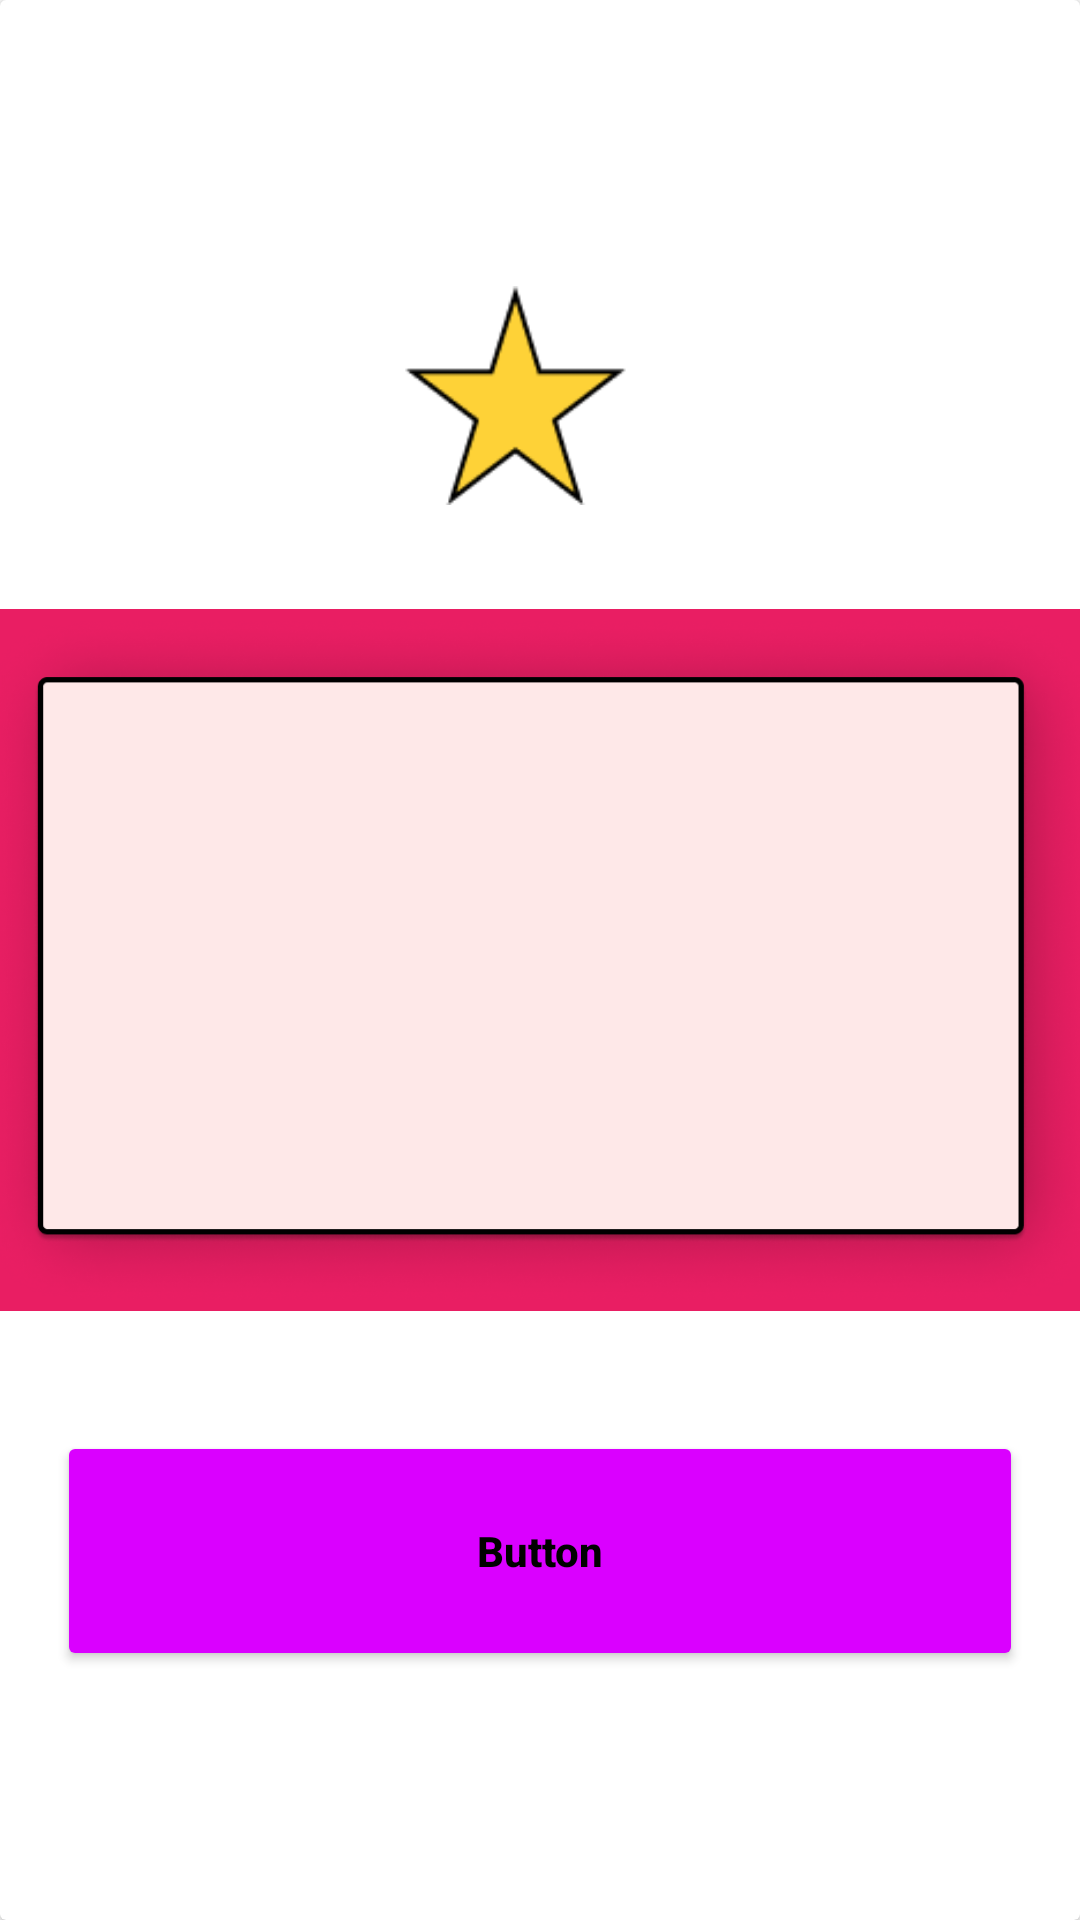

Icons on this 1080 × 1920 Android screen, each with its box as (x1, y1, x2, y2):
staron: (405, 286, 626, 505)
